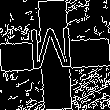M_S: (31, 29, 79, 81)
